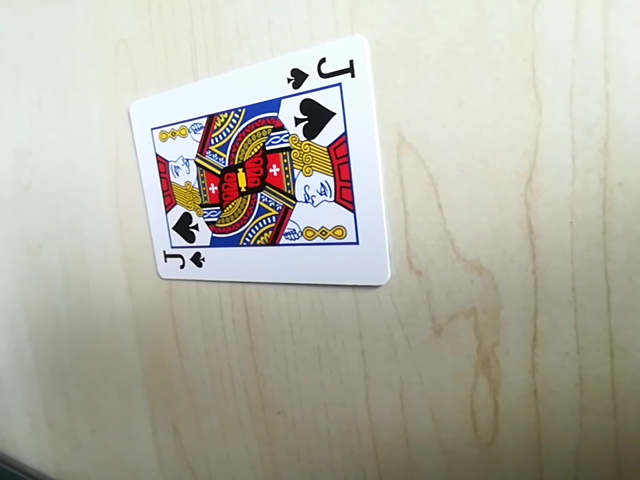ht j: (282, 52, 360, 92), (156, 240, 206, 279)
